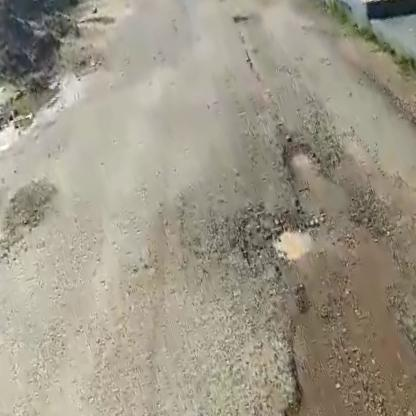pothole: (213, 190, 314, 279), (280, 134, 322, 182)
